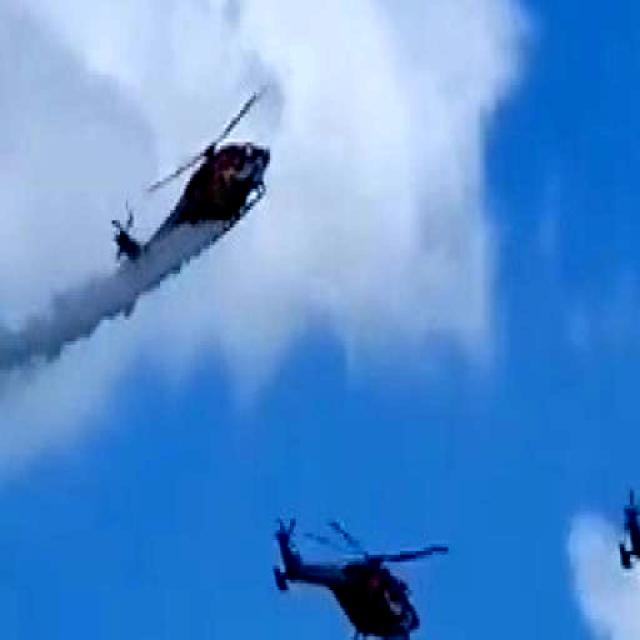drone: (109, 86, 279, 258), (279, 504, 448, 640)
